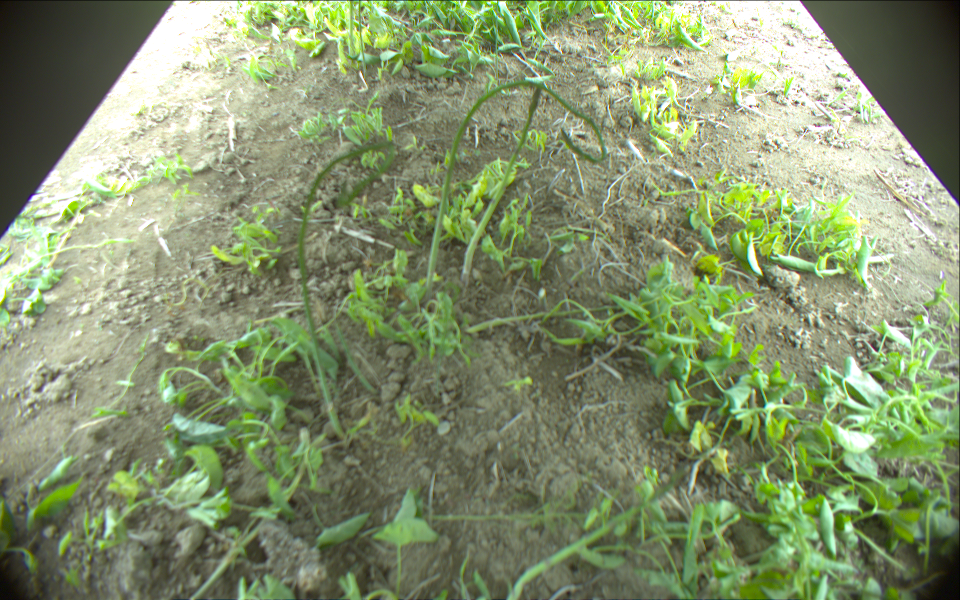aspa: (425, 80, 606, 293), (299, 141, 397, 448), (505, 461, 686, 600), (462, 85, 542, 282), (357, 1, 368, 77), (348, 1, 356, 58)
